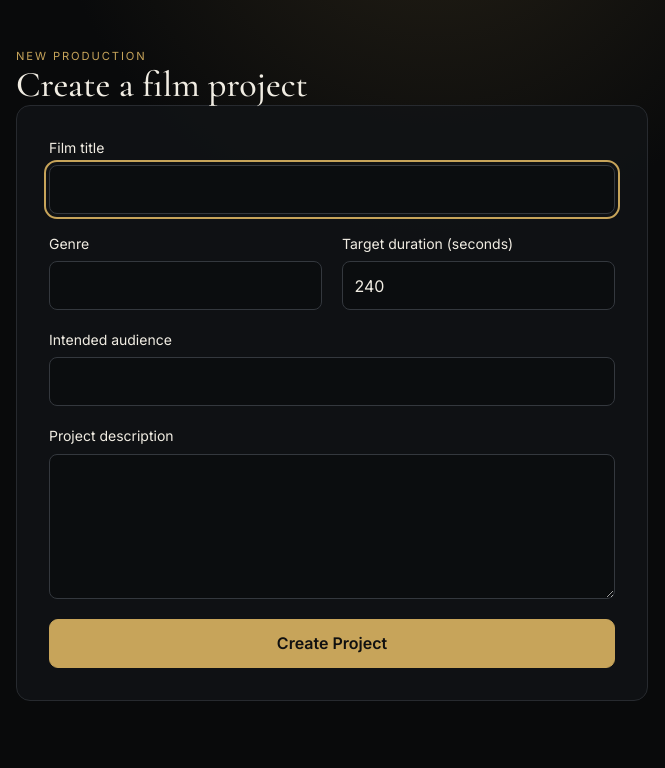
Test: create project validates required fields
Step 1. Click the button "Create Project" → (332, 643), box [49,619,615,668]
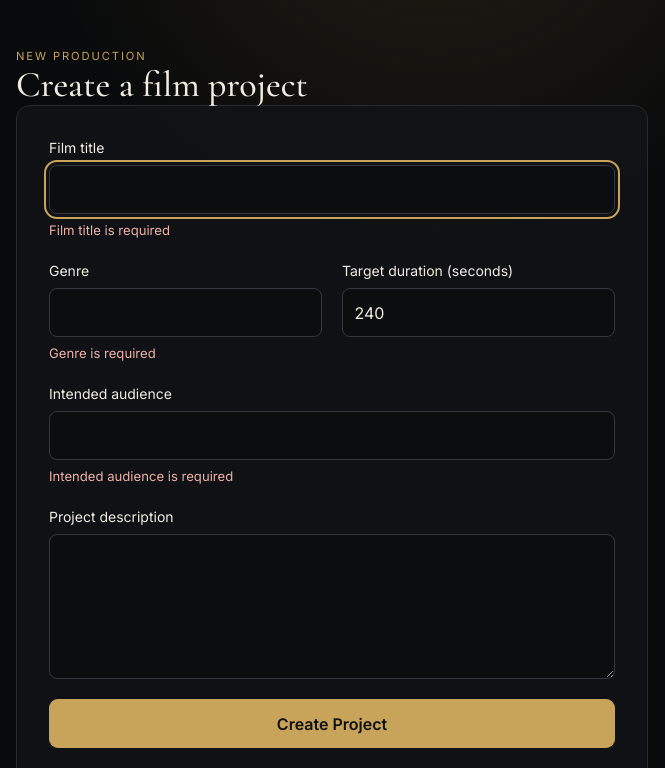
expect the text "Film title is required" is shown: met, box [49,222,170,238]
expect the text "Genre is required" is shown: met, box [49,345,156,361]
